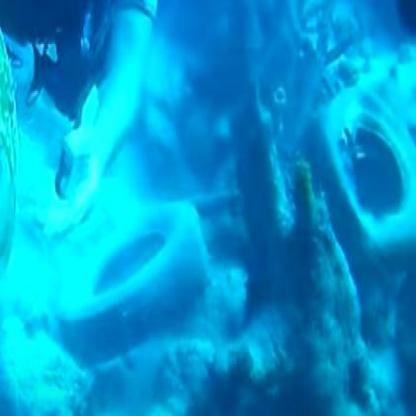tire: (50, 219, 224, 347), (323, 40, 416, 270)
